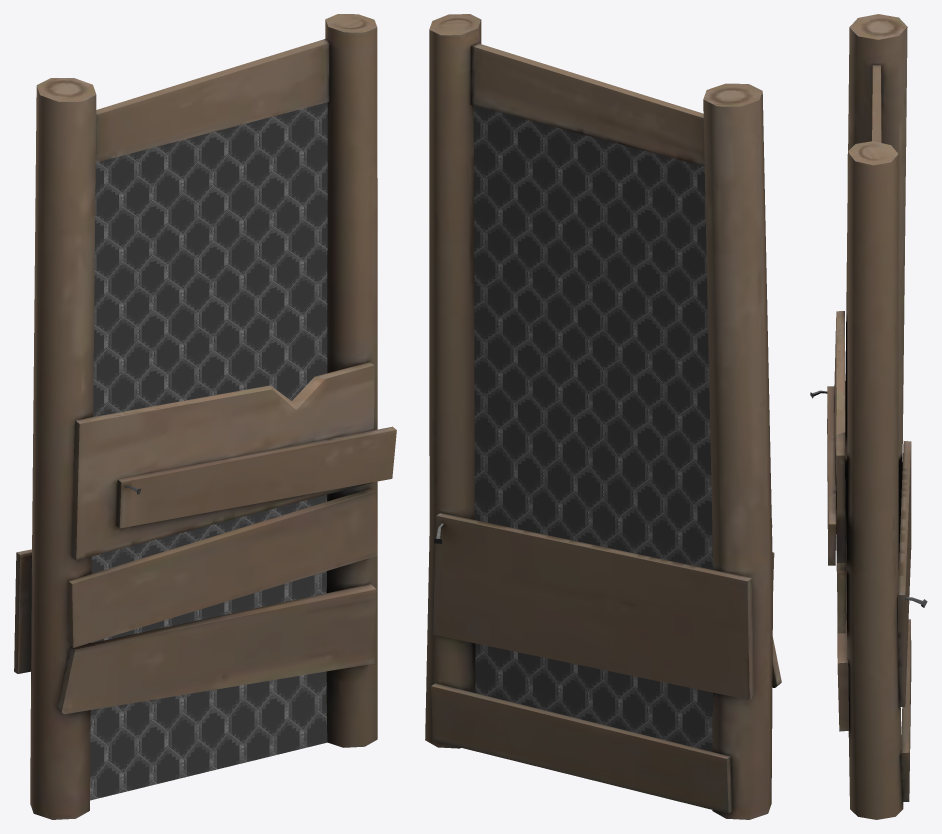
3 renders of one model, left to right at view 1: azimuth 30°, elevation 25°; view 2: azimuth 150°, elevation 25°; view 3: azimuth 270°, elevation 25°, orthographic. The views are drawn at different scales.
Parts seen in each view (by area): view 1: body0_model0_lod0_mesh0, body0_model0_lod0_mesh1; view 2: body0_model0_lod0_mesh0, body0_model0_lod0_mesh1; view 3: body0_model0_lod0_mesh0.
Part boxes in pixels (<box>): body0_model0_lod0_mesh0: <box>14,14,396,819</box>; body0_model0_lod0_mesh1: <box>90,102,327,800</box>; body0_model0_lod0_mesh0: <box>425,14,781,819</box>; body0_model0_lod0_mesh1: <box>473,105,713,751</box>; body0_model0_lod0_mesh0: <box>810,14,927,819</box>.
Size of the model in its own units: 66.34 by 133 by 21.42.
Materials: 2 (2 with a texture image).
